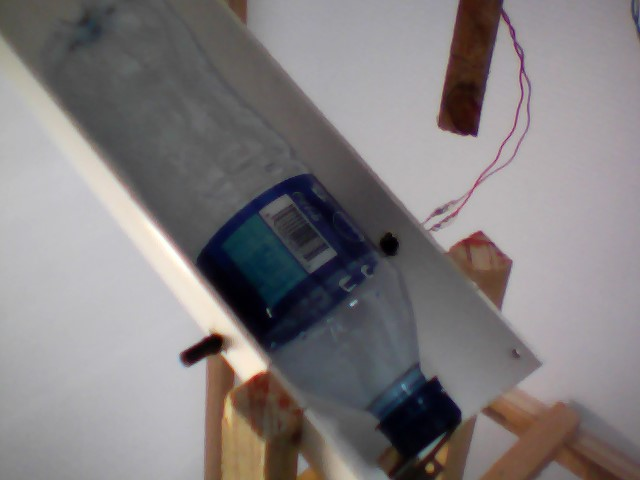plastico: (28, 1, 471, 462)
